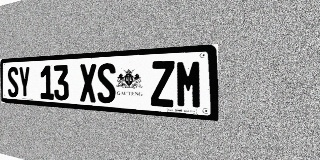1: (40, 65, 54, 100)
3: (54, 65, 69, 101)
M: (175, 59, 203, 109)
S: (97, 63, 116, 104), (7, 67, 19, 98)
X: (79, 64, 97, 103)
Y: (18, 66, 31, 98)
Z: (150, 60, 175, 108)
